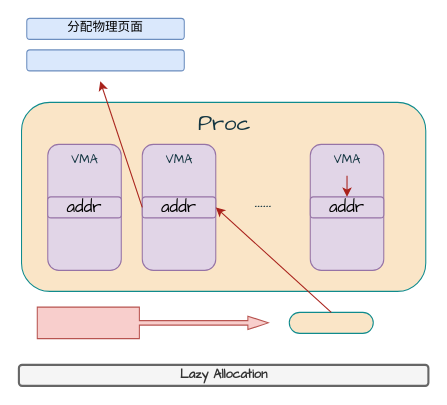
Image size: 447x405. Some labels were removed from this diagram. The box of each missing label's shape, as (x1, y1, x2, y2) in pixels:
fault_va: (288, 311, 373, 333)
Usertrap: (36, 306, 268, 339)
映射: (26, 49, 184, 71)
